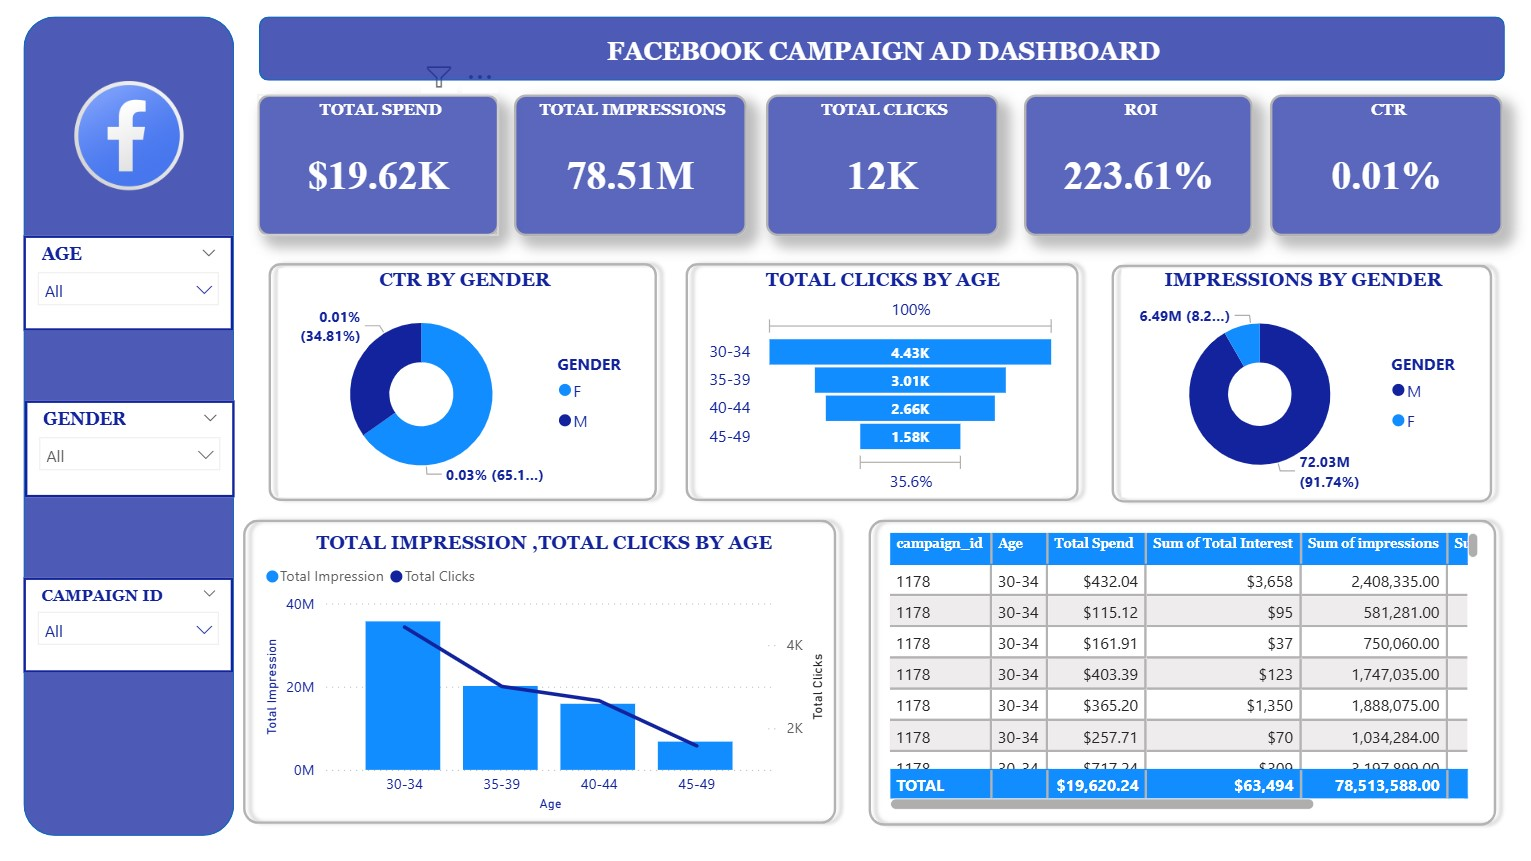

This screenshot's page, from the dashboard's own definition file:
{"tool":"powerbi","page":{"name":"Page 1","canvas":[1280,720],"ordinal":0},"visuals":[{"type":"card","title":"TOTAL SPEND","fields":{"Values":["data.Total Spend"]},"box":[216.5,78.7,201.4,118.1],"z":0},{"type":"card","title":"TOTAL IMPRESSIONS","fields":{"Values":["data.Total Impression"]},"box":[430,78.7,193.8,118.1],"z":1000},{"type":"card","title":"TOTAL CLICKS","fields":{"Values":["data.Total Clicks"]},"box":[640.5,78.7,193.8,118.1],"z":2000},{"type":"card","title":"ROI","fields":{"Values":["data.ROI"]},"box":[855.5,78.7,190.8,118.1],"z":3000},{"type":"card","title":"CTR","fields":{"Values":["data.CTR"]},"box":[1059.9,78.7,193.8,118.1],"z":4000},{"type":"shape","box":[21.2,13.6,175.6,682.9],"z":5000},{"type":"image","box":[21.2,13.6,175.6,198.4],"z":6000},{"type":"shape","box":[218.1,13.4,1038.3,53.5],"z":7000},{"type":"textbox","box":[218.2,24.5,1038.1,42.6],"z":8000},{"type":"shape","box":[216.9,211.8,339.6,214.3],"z":9000},{"type":"shape","box":[565.5,211.8,343.5,214.3],"z":10000},{"type":"shape","box":[920.6,213,333.1,214.3],"z":11000},{"type":"shape","box":[196.8,425.5,510.3,269.5],"z":12000},{"type":"shape","box":[717.7,425.5,539.1,271],"z":13000},{"type":"donutChart","title":"CTR BY GENDER","fields":{"Y":["data.CTR"],"Category":["data.gender"]},"box":[233.2,224.1,310.4,190.8],"z":14000},{"type":"donutChart","title":"IMPRESSIONS BY GENDER","fields":{"Y":["data.Total Impression"],"Category":["data.gender"]},"box":[935.8,224.1,302.8,190.8],"z":15000},{"type":"lineStackedColumnComboChart","title":"TOTAL IMPRESSION ,TOTAL CLICKS BY AGE","fields":{"Y":["data.Total Impression"],"Y2":["data.Total Clicks"],"Category":["data.AGE"]},"box":[218,442.1,475.5,237.7],"z":16000},{"type":"tableEx","fields":{"Values":["data.campaign_id","data.AGE","data.Total Spend","Sum(data.Total Interest)","Sum(data.impressions)","Sum(data.clicks)","data.total_conversion"]},"box":[737.4,439.1,501.2,240.8],"z":17000},{"type":"funnel","title":"TOTAL CLICKS BY AGE","fields":{"Y":["data.Total Clicks"],"Category":["data.AGE"]},"box":[587.5,224.1,299.8,190.8],"z":18000},{"type":"slicer","fields":{"Values":["data.Age"]},"box":[21.3,196.3,175,79.1],"z":19000},{"type":"slicer","fields":{"Values":["data.GENDER"]},"box":[22.8,333.2,175,80.6],"z":20000},{"type":"slicer","fields":{"Values":["data.campaign_id"]},"box":[21.3,480.8,175,79.1],"z":21000}]}

Visuals, with their boxes in screenshot pixels (x1, y1, x2, y2), scaled from the page's 1280x720 canvas onto the 1531x861 screenshot:
"TOTAL SPEND" card: bbox(259, 94, 500, 235)
"TOTAL IMPRESSIONS" card: bbox(514, 94, 746, 235)
"TOTAL CLICKS" card: bbox(766, 94, 998, 235)
"ROI" card: bbox(1023, 94, 1251, 235)
"CTR" card: bbox(1268, 94, 1500, 235)
shape: bbox(25, 16, 235, 833)
image: bbox(25, 16, 235, 254)
shape: bbox(261, 16, 1503, 80)
textbox: bbox(261, 29, 1503, 80)
shape: bbox(259, 253, 666, 510)
shape: bbox(676, 253, 1087, 510)
shape: bbox(1101, 255, 1500, 511)
shape: bbox(235, 509, 846, 831)
shape: bbox(858, 509, 1503, 833)
"CTR BY GENDER" donutChart: bbox(279, 268, 650, 496)
"IMPRESSIONS BY GENDER" donutChart: bbox(1119, 268, 1481, 496)
"TOTAL IMPRESSION ,TOTAL CLICKS BY AGE" lineStackedColumnComboChart: bbox(261, 529, 829, 813)
tableEx - data.campaign_id x data.AGE: bbox(882, 525, 1481, 813)
"TOTAL CLICKS BY AGE" funnel: bbox(703, 268, 1061, 496)
slicer - data.Age: bbox(25, 235, 235, 329)
slicer - data.GENDER: bbox(27, 398, 237, 495)
slicer - data.campaign_id: bbox(25, 575, 235, 670)
